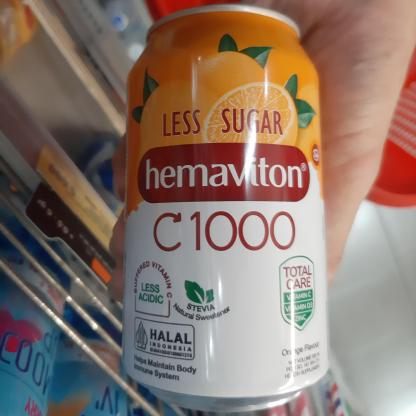alumunium_can: (90, 0, 367, 416)
